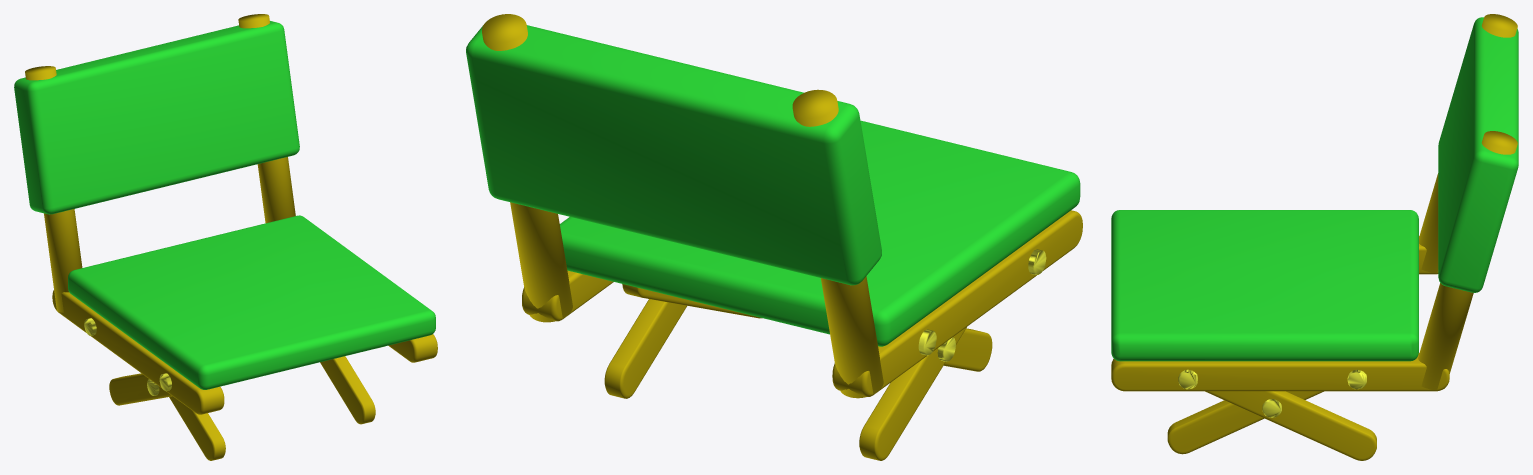
File: desk.fbx
3 views of the same model, side by side, from view 1: azimuth 30°, elevation 25°; view 2: azimuth 150°, elevation 25°; view 3: azimuth 270°, elevation 25° (orthographic). The views are drawn at different scales.
Visible parts, largest first — view 1: Desk, BackSoft, DeskLag, BackWood, Conection; view 2: BackSoft, Desk, DeskLag, BackWood, Conection; view 3: Desk, DeskLag, BackSoft, BackWood, Conection.
Part boxes in pixels (box(x1,y1,x2,y2)): Desk: box(68, 215, 435, 389); BackSoft: box(14, 21, 299, 214); DeskLag: box(52, 290, 437, 460); BackWood: box(25, 14, 295, 312); Conection: box(84, 318, 171, 395); BackSoft: box(466, 25, 881, 285); Desk: box(559, 120, 1080, 346); DeskLag: box(522, 210, 1082, 460); BackWood: box(482, 14, 883, 398); Conection: box(918, 249, 1046, 361); Desk: box(1111, 210, 1418, 361); DeskLag: box(1111, 236, 1449, 460); BackSoft: box(1438, 17, 1518, 292); BackWood: box(1418, 14, 1517, 390); Conection: box(1178, 369, 1366, 417).
Size of the model in its own units: 216 by 239 by 265.
